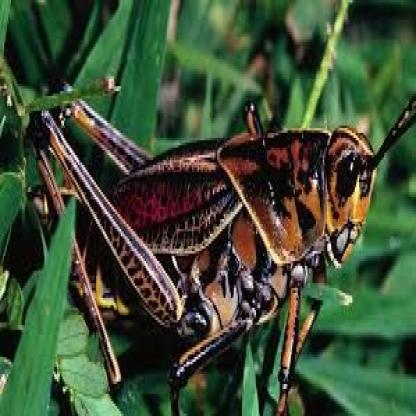grasshopper: (35, 84, 408, 405)
